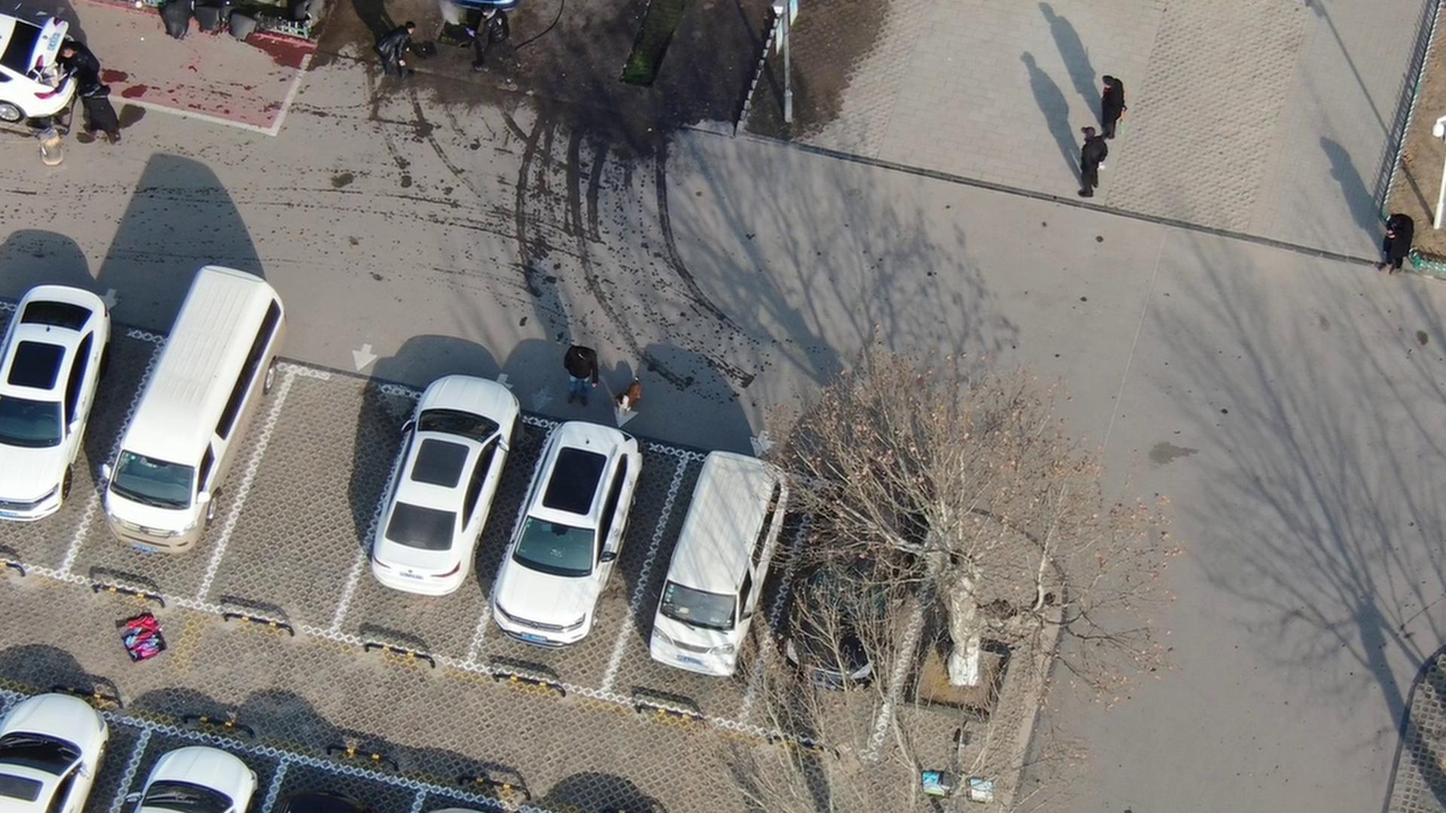human: (469, 1, 522, 72), (374, 12, 421, 74), (563, 338, 604, 406), (75, 75, 120, 136), (1069, 124, 1103, 200), (1092, 68, 1128, 132), (67, 32, 109, 74)
